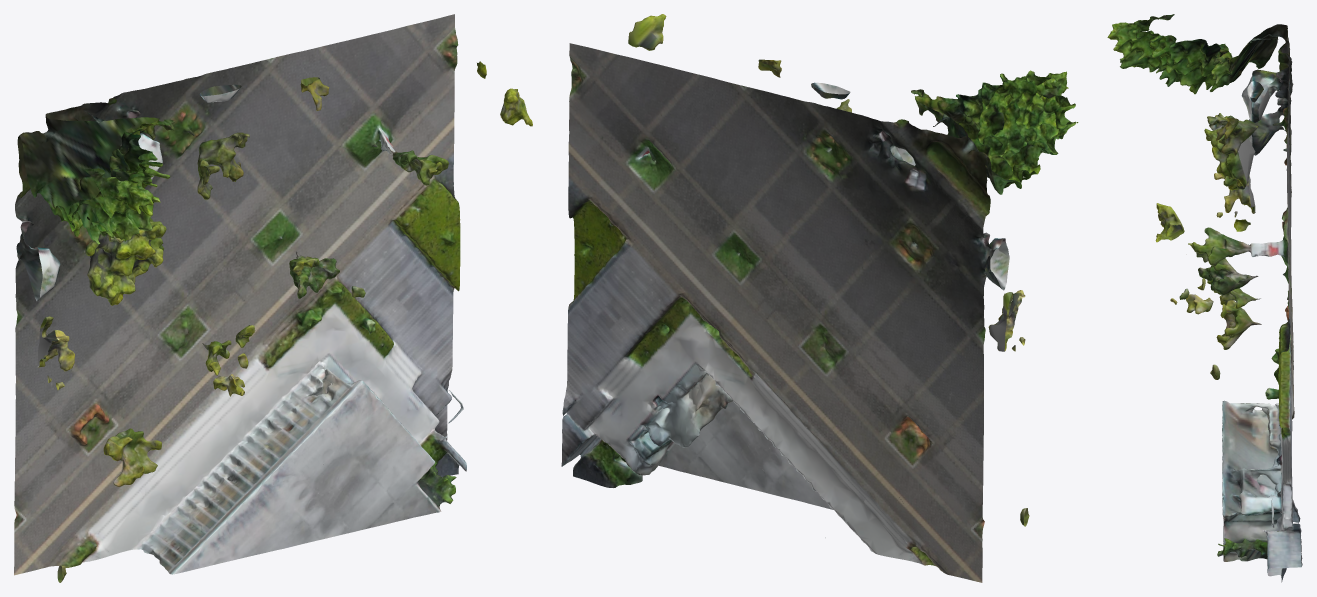
Rendered from Tile_+013_+023.fbx.
3 views of the same model, side by side, from view 1: azimuth 30°, elevation 25°; view 2: azimuth 150°, elevation 25°; view 3: azimuth 270°, elevation 25° (orthographic). The views are drawn at different scales.
Visible parts, largest first — view 1: DefaultName; view 2: DefaultName; view 3: DefaultName.
Boxes of the visible parts, <box> form: DefaultName: <box>14,14,532,582</box>; DefaultName: <box>561,14,1078,582</box>; DefaultName: <box>1107,14,1302,582</box>.
Size of the model in its own units: 22.54 by 22.54 by 10.27.
